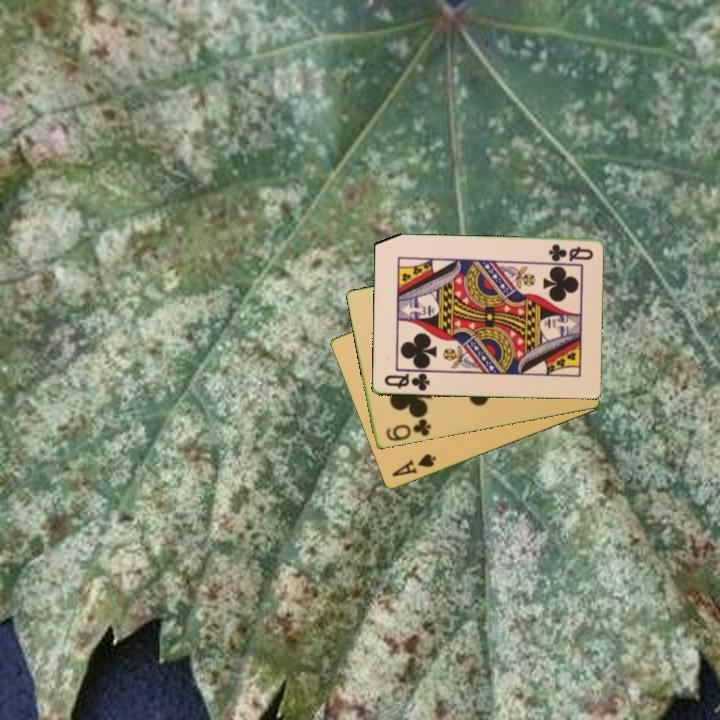6c: (382, 415, 434, 444)
As: (388, 450, 439, 480)
Qc: (381, 370, 432, 394), (545, 241, 596, 263)
